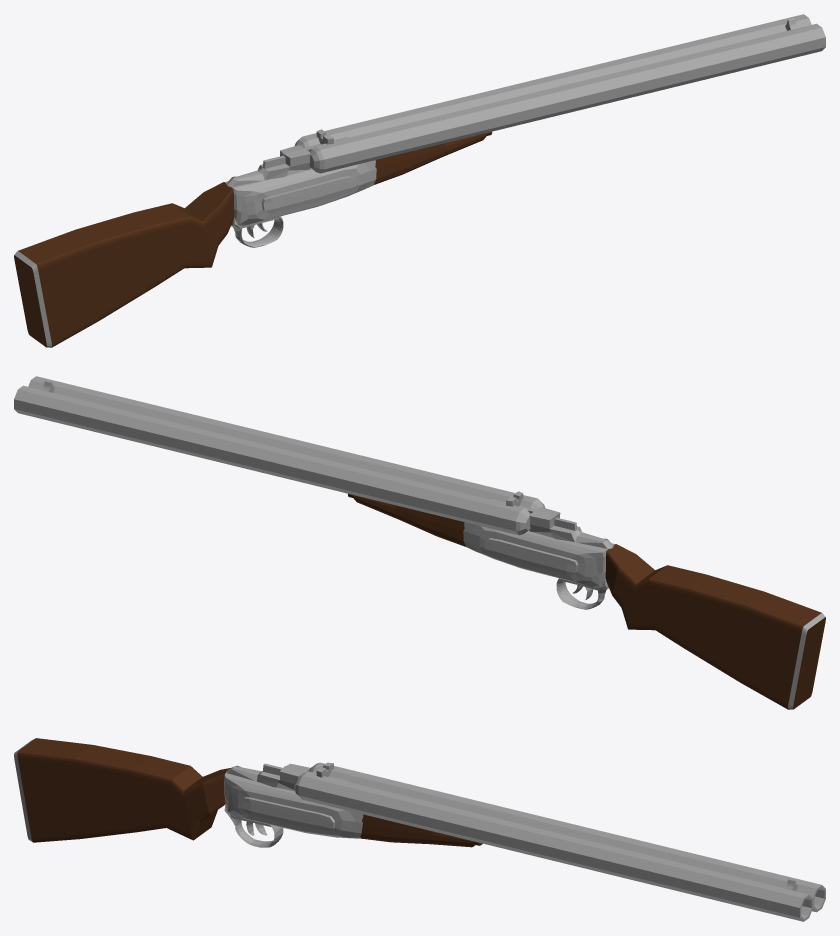
The model's file is Shotgun_Var_02.fbx.
3 renders of one model, top to bottom at view 1: azimuth 30°, elevation 25°; view 2: azimuth 150°, elevation 25°; view 3: azimuth 330°, elevation 25°, orthographic.
Visible parts, largest first — view 1: Gunbase; view 2: Gunbase; view 3: Gunbase.
Part boxes in pixels (<box>): Gunbase: <box>14,14,825,347</box>; Gunbase: <box>14,376,825,709</box>; Gunbase: <box>14,738,825,921</box>.
Bounding box in the file's own units: 150 × 25.26 × 8.54.
